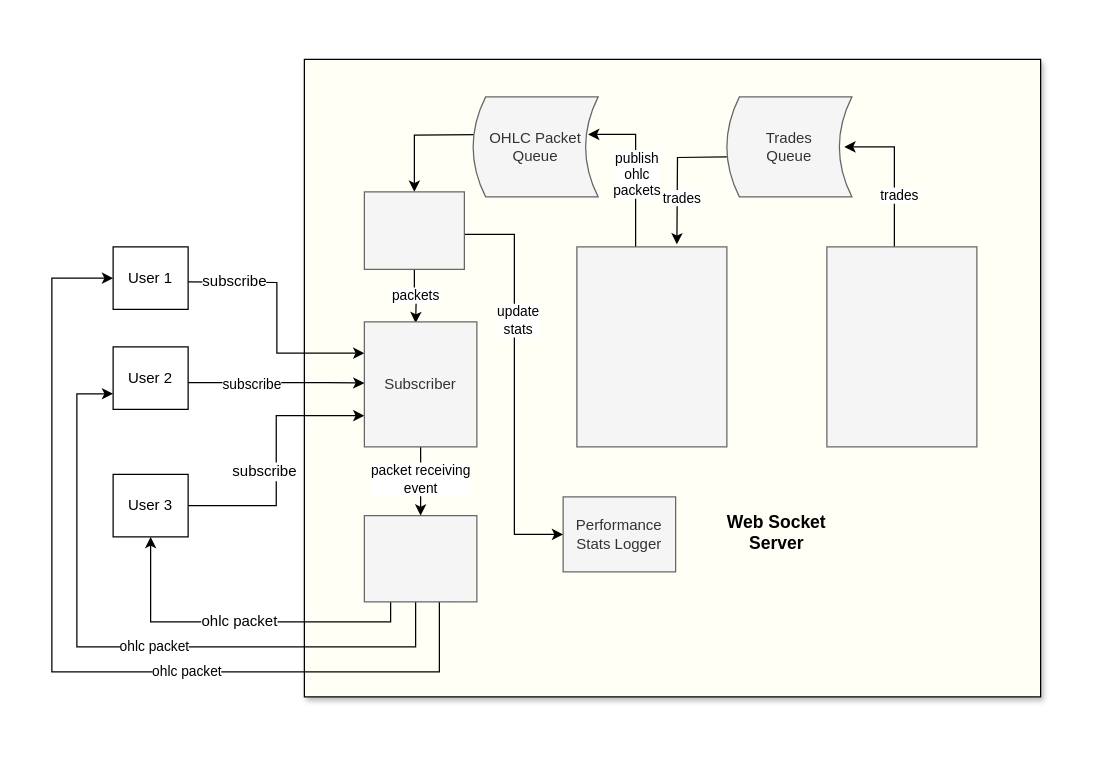
Some shapes in this 1105 by 769 pixel diagram are drawn without their labels. The centre of each missing label's shape, as x and y in pixels:
Packet Transmission Thread Pool: the point at 420,558
Processor (worker2): the point at 651,346
Producer (worker1): the point at 901,346
Worker3: the point at 413,230
